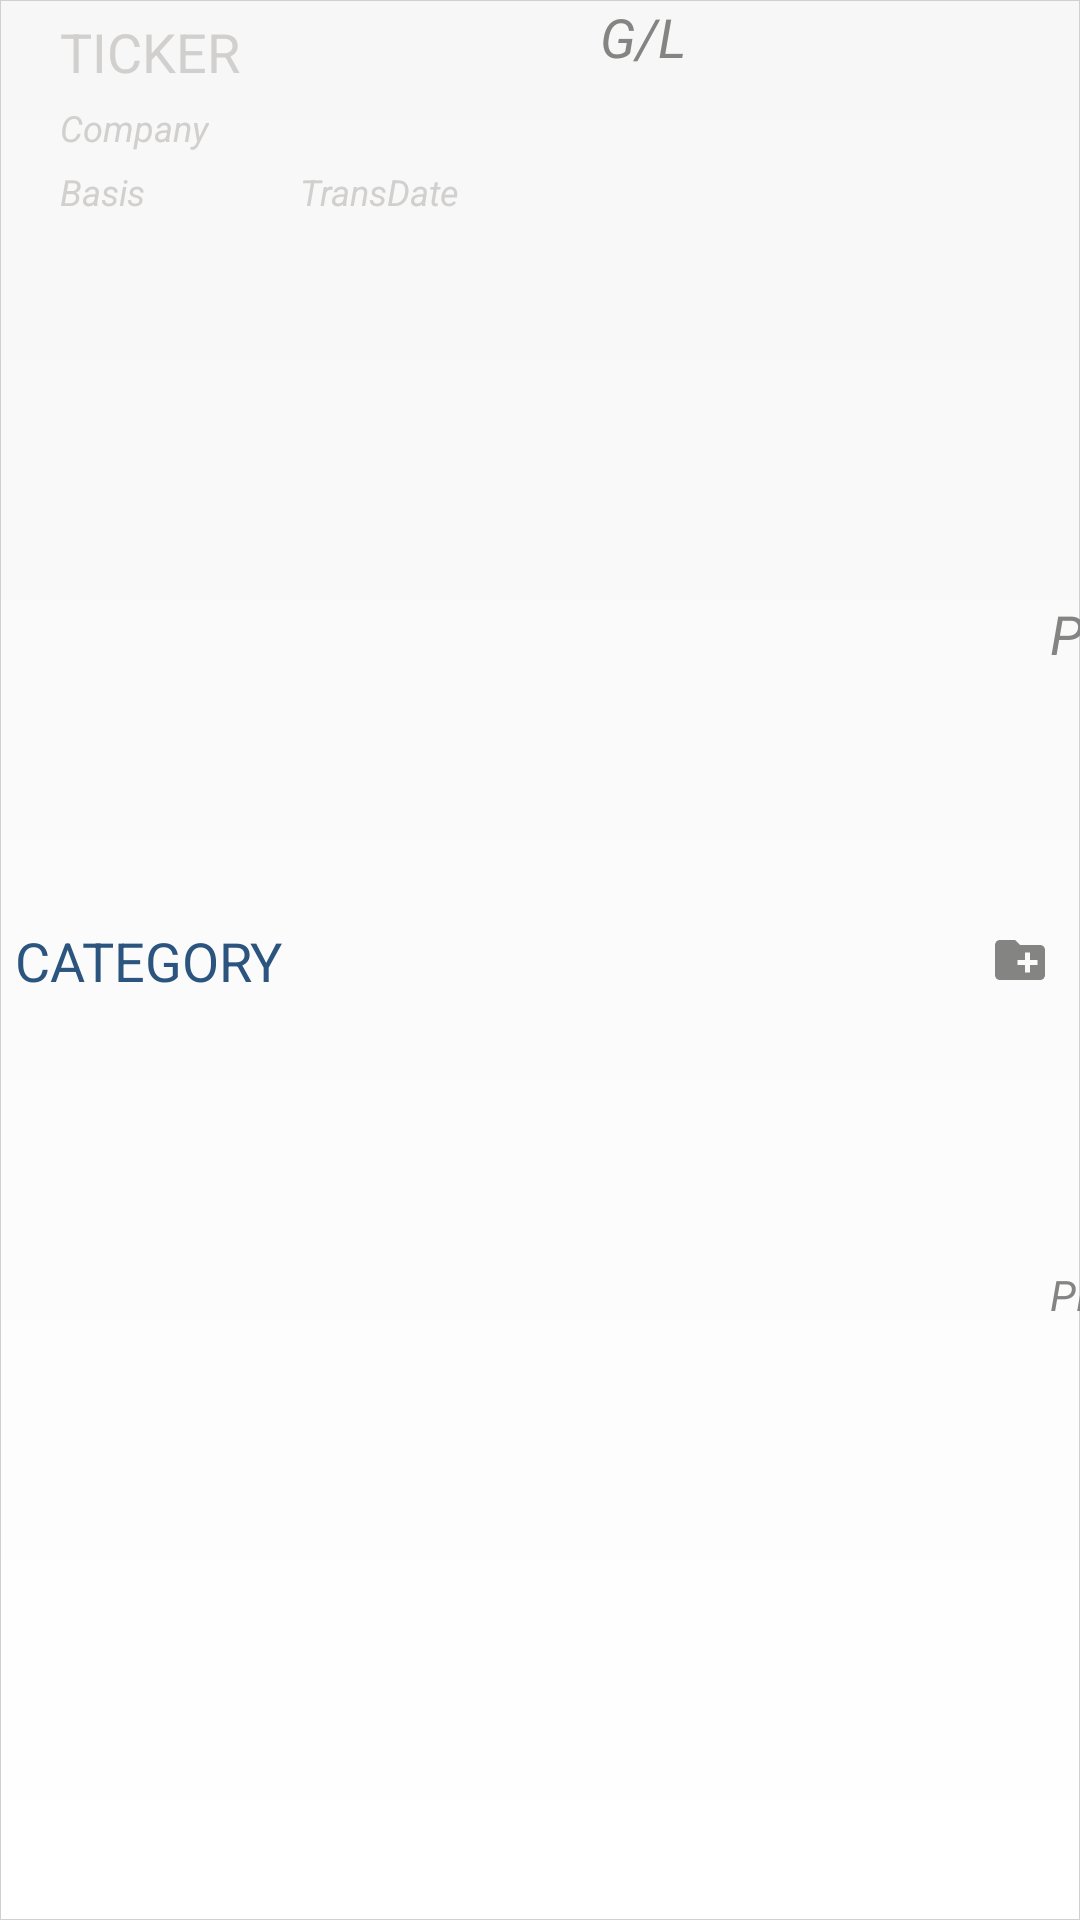

Where to tap for icons on this 1080 x 1920 app screen, as (x,y):
add: (1020,960)
